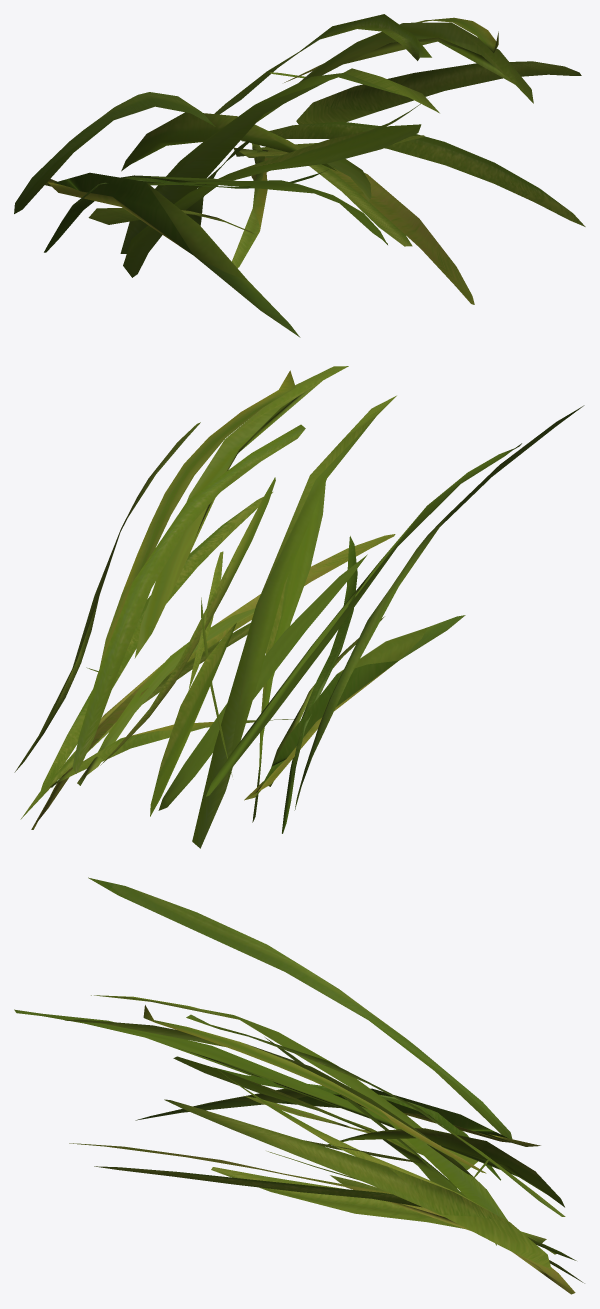
File: Lawn_Mowed_02.glb
The picture shows the model from 3 angles, top to bottom: view 1: azimuth 30°, elevation 25°; view 2: azimuth 150°, elevation 25°; view 3: azimuth 270°, elevation 25°; orthographic projection. The views are drawn at different scales.
Visible parts, largest first — view 1: Lawn_Mowed_02; view 2: Lawn_Mowed_02; view 3: Lawn_Mowed_02.
Part boxes in pixels (box(x1,y1,x2,y2)): Lawn_Mowed_02: box(14, 14, 585, 337); Lawn_Mowed_02: box(14, 366, 584, 848); Lawn_Mowed_02: box(14, 877, 584, 1294).
Bounding box in the file's own units: 0.0355 × 0.03 × 0.0537.
1 material, 1 textured.
